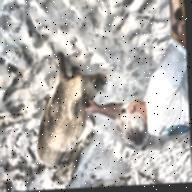boar: (2, 61, 125, 187)
